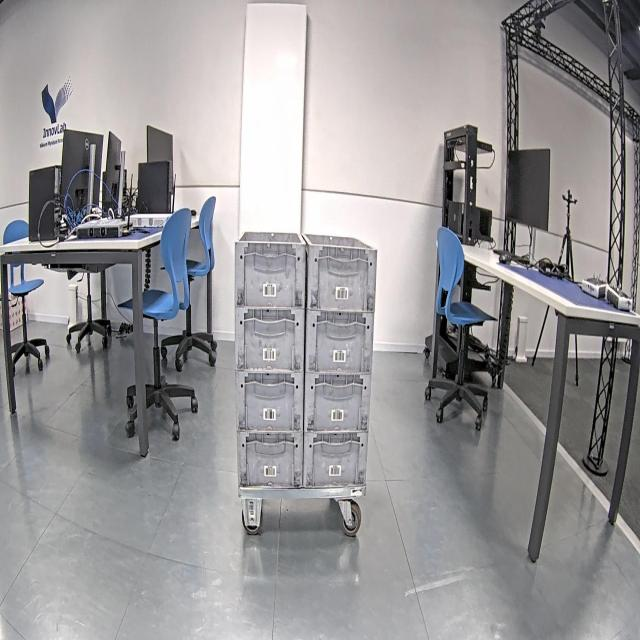Box8G: (233, 229, 378, 492)
